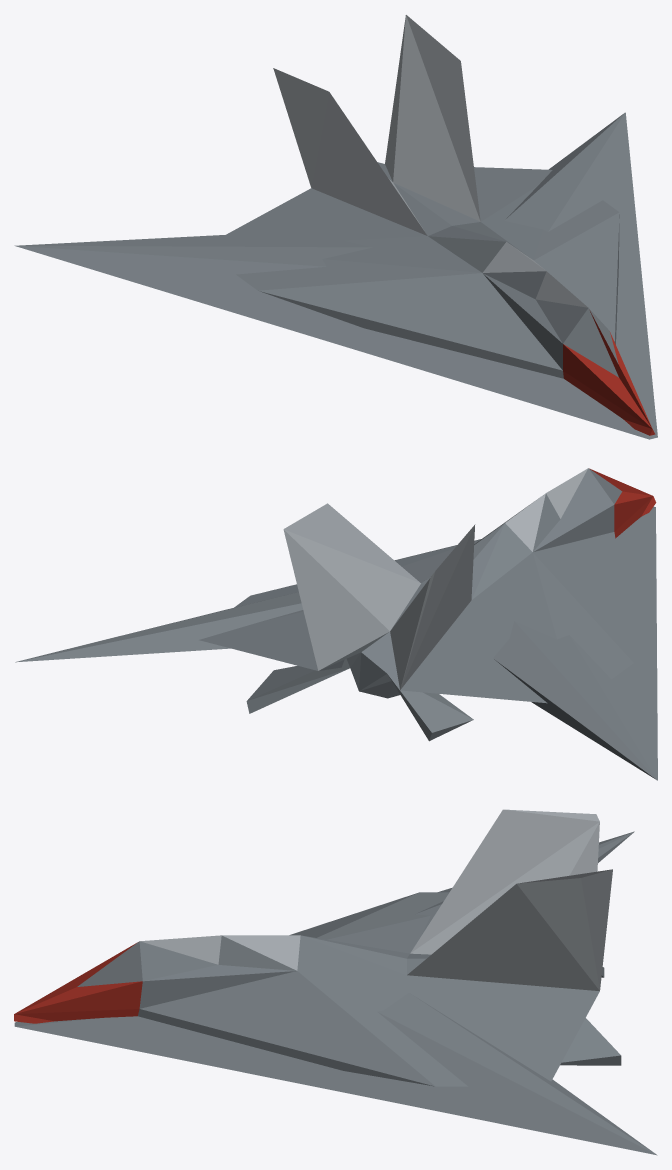
Rendered from traffic-warbird-jet.glb.
3 views of the same model, one above another, from view 1: azimuth 30°, elevation 25°; view 2: azimuth 150°, elevation 25°; view 3: azimuth 270°, elevation 25° (orthographic). The views are drawn at different scales.
Visible parts, largest first — view 1: warbird_jet; view 2: warbird_jet; view 3: warbird_jet.
Part boxes in pixels (x1,y1,x2,y2): warbird_jet: [14, 15, 657, 439]; warbird_jet: [15, 468, 657, 780]; warbird_jet: [14, 809, 657, 1155].
Bounding box in the file's own units: 2.19 × 0.6267 × 2.
